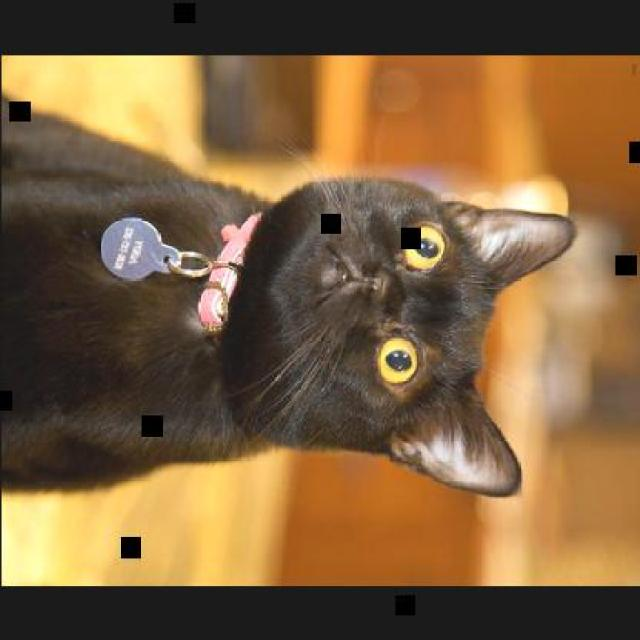unauthorized: (0, 94, 577, 498)
